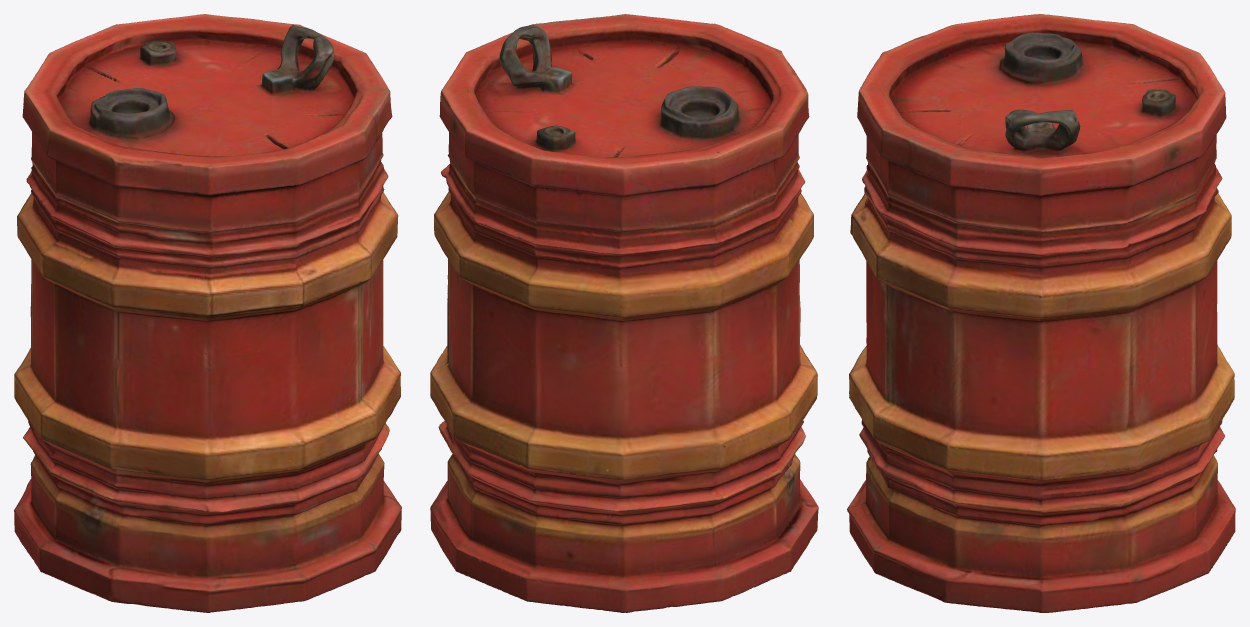
Rendered from Meshy_AI_barrel_0331141338_texture.glb.
3 renders of one model, left to right at view 1: azimuth 30°, elevation 25°; view 2: azimuth 150°, elevation 25°; view 3: azimuth 270°, elevation 25°, orthographic.
Size of the model in its own units: 1.49 by 2.01 by 1.5.
1 material, 1 textured.
